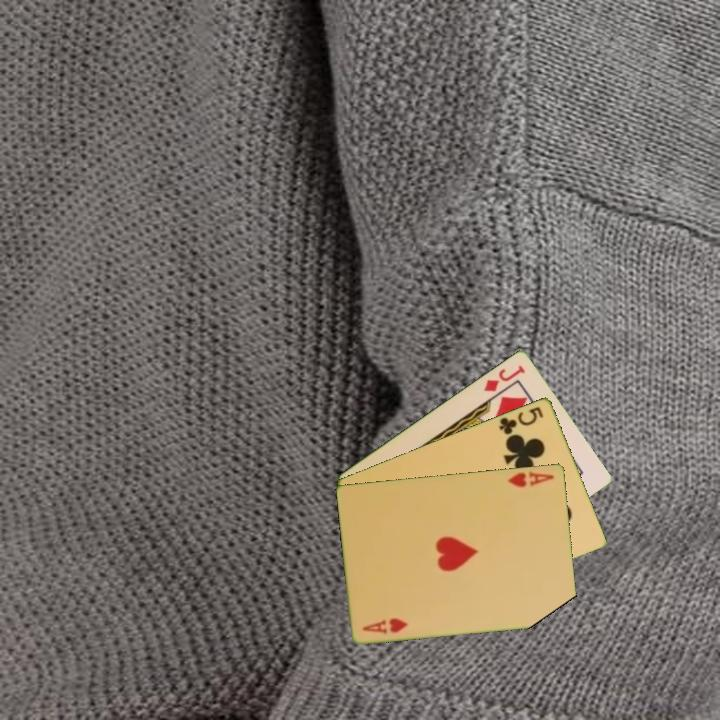5c: (495, 403, 546, 437)
Ah: (504, 467, 557, 490), (359, 614, 411, 637)
Jd: (480, 361, 528, 394)
